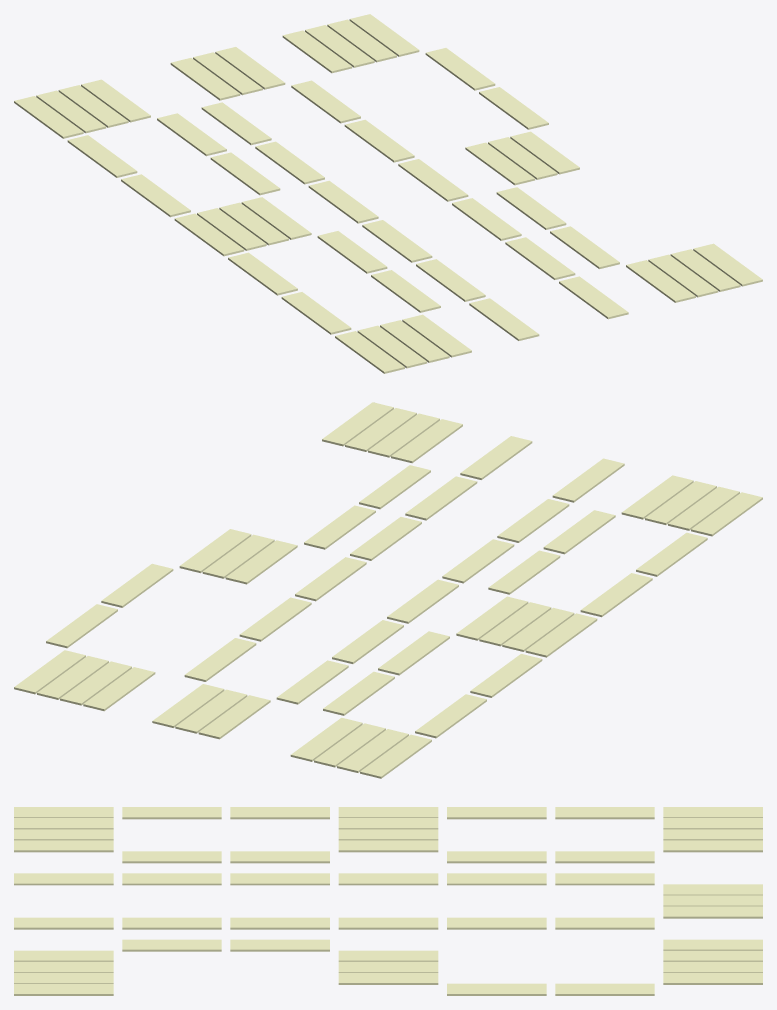
Rendered from marking_bus_text_white.glb.
3 renders of one model, top to bottom at view 1: azimuth 30°, elevation 25°; view 2: azimuth 150°, elevation 25°; view 3: azimuth 270°, elevation 25°, orthographic. The views are drawn at different scales.
Parts seen in each view (by area): view 1: bus_13, bus_20, bus_23, bus_30, bus_46, bus_08, bus_14, bus_40, bus_41, bus_04, bus_15, bus_16 (+38 smaller); view 2: bus_08, bus_05, bus_20, bus_23, bus_29, bus_30, bus_32, bus_06, bus_12, bus_24, bus_31, bus_41 (+38 smaller); view 3: bus_11, bus_26, bus_27, bus_43, bus_03, bus_04, bus_05, bus_06, bus_07, bus_12, bus_13, bus_14 (+38 smaller).
Boxes of the visible parts, x1,y1,x2,y2 form: bus_13: (210, 152, 280, 195); bus_20: (469, 298, 539, 340); bus_23: (505, 237, 575, 279); bus_30: (201, 102, 271, 145); bus_46: (282, 30, 352, 73); bus_08: (174, 213, 244, 256); bus_14: (67, 135, 137, 177); bus_40: (496, 187, 566, 229); bus_41: (465, 142, 535, 185); bus_04: (281, 292, 351, 334); bus_15: (157, 113, 226, 156); bus_16: (14, 96, 83, 138); bus_08: (525, 613, 597, 657); bus_05: (543, 510, 615, 554); bus_20: (552, 458, 624, 502); bus_23: (405, 476, 477, 520); bus_29: (239, 597, 311, 641); bus_30: (276, 660, 348, 704); bus_32: (198, 695, 270, 739); bus_06: (580, 573, 652, 617); bus_12: (470, 654, 542, 697); bus_24: (442, 539, 514, 583); bus_31: (184, 638, 256, 681); bus_41: (225, 540, 297, 584); bus_11: (338, 840, 438, 852); bus_26: (338, 873, 438, 885); bus_27: (338, 917, 438, 929); bus_43: (338, 972, 438, 984); bus_03: (14, 840, 113, 852); bus_04: (122, 807, 221, 819); bus_05: (122, 851, 221, 863); bus_06: (230, 807, 329, 819); bus_07: (230, 851, 329, 863); bus_12: (447, 807, 546, 819); bus_13: (447, 851, 546, 863); bus_14: (555, 807, 654, 819).
Bounding box in the file's own units: 1.02 × 0.005 × 1.72.
